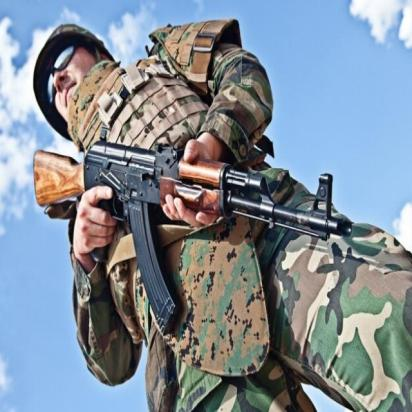Gun: (32, 135, 355, 338)
